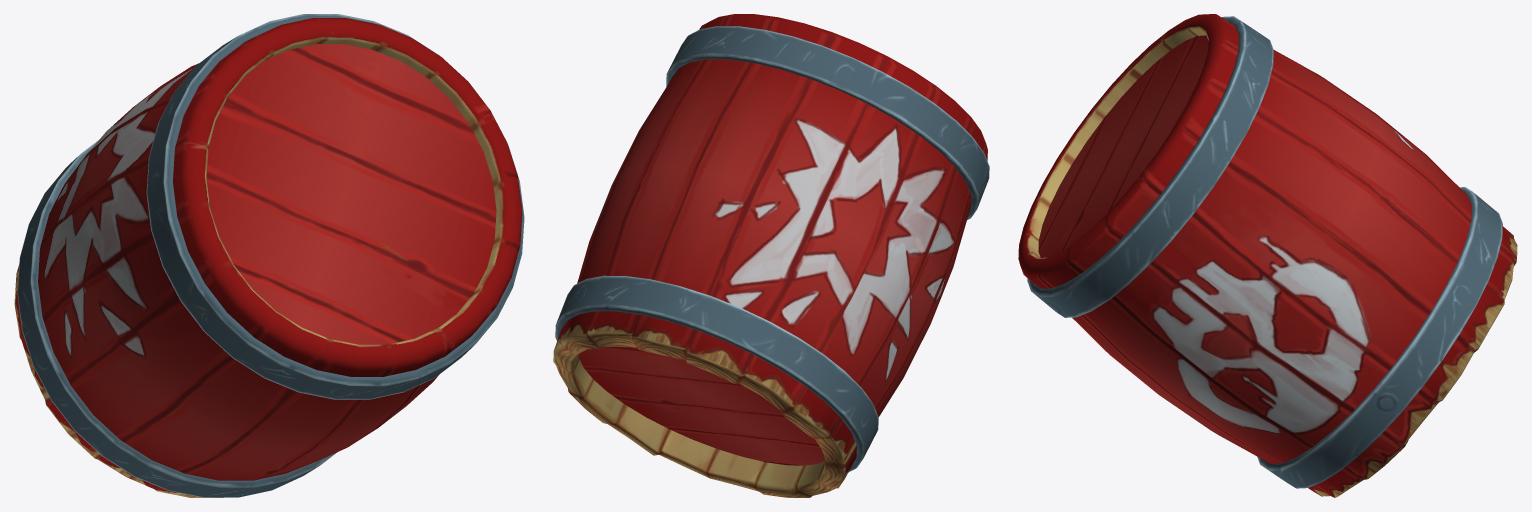
Rendered from baozha.fbx.
The picture shows the model from 3 angles, left to right: view 1: azimuth 30°, elevation 25°; view 2: azimuth 150°, elevation 25°; view 3: azimuth 270°, elevation 25°; orthographic projection. The views are drawn at different scales.
Visible parts, largest first — view 1: Object_14; view 2: Object_14; view 3: Object_14.
Part boxes in pixels (x1,y1,x2,y2): Object_14: (14, 14, 524, 497); Object_14: (553, 14, 989, 497); Object_14: (1018, 14, 1517, 497).
Bounding box in the file's own units: 9.53 × 13.19 × 13.38.
